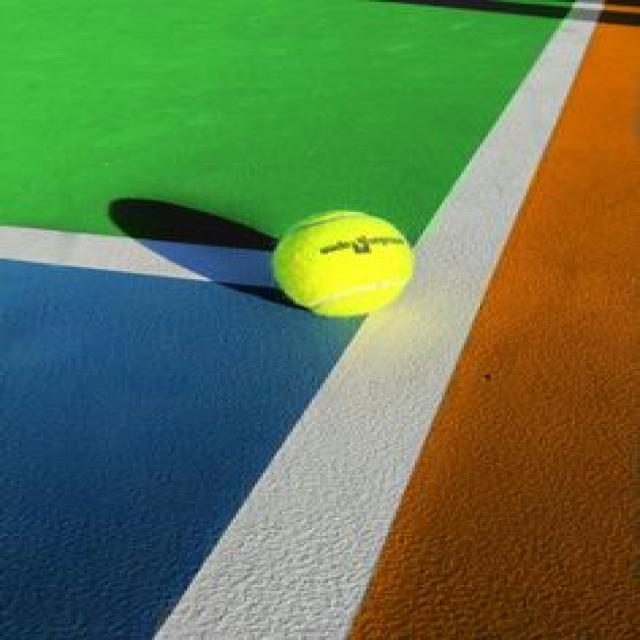tennis: (272, 208, 416, 316)
